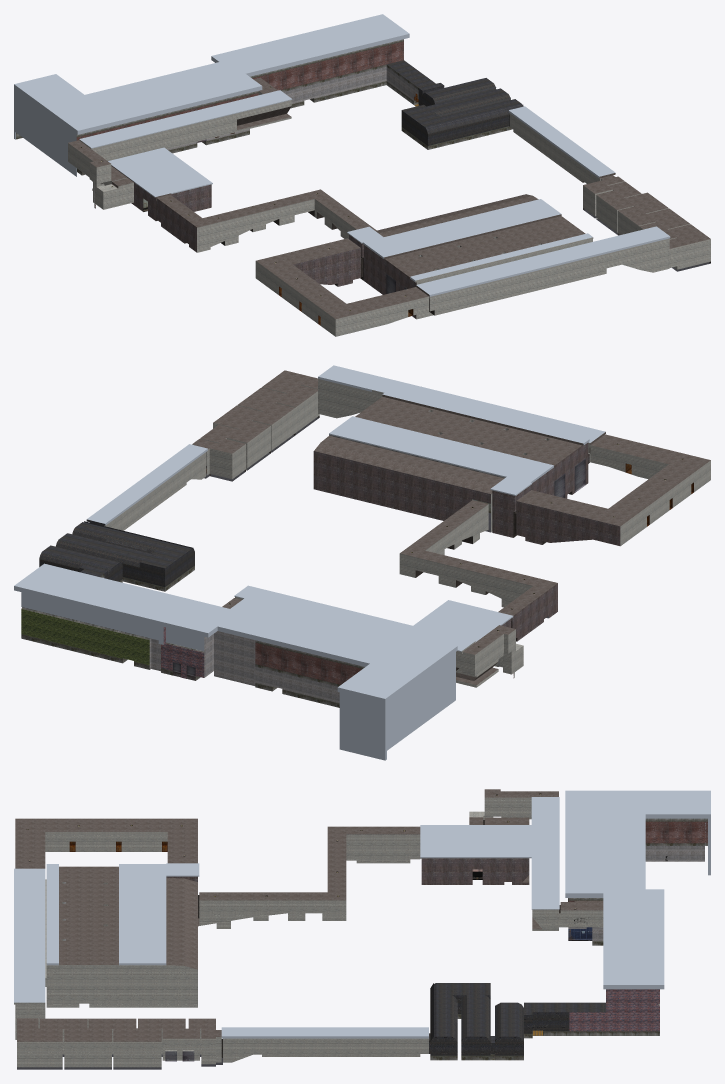
Rendered from bhop_train.glb.
The picture shows the model from 3 angles, top to bottom: view 1: azimuth 30°, elevation 25°; view 2: azimuth 150°, elevation 25°; view 3: azimuth 270°, elevation 25°; orthographic projection. The views are drawn at different scales.
Parts seen in each view (by area): view 1: bhop_train_static, bhop_train_sky; view 2: bhop_train_static, bhop_train_sky; view 3: bhop_train_static, bhop_train_sky.
Boxes of the visible parts, x1,y1,x2,y2 form: bhop_train_static: [16, 39, 710, 336]; bhop_train_sky: [14, 14, 670, 296]; bhop_train_static: [21, 370, 710, 707]; bhop_train_sky: [14, 365, 605, 760]; bhop_train_static: [14, 789, 707, 1069]; bhop_train_sky: [14, 790, 710, 1038].
Bounding box in the file's own units: 152 × 19.35 × 197.
68 materials, 67 textured.
